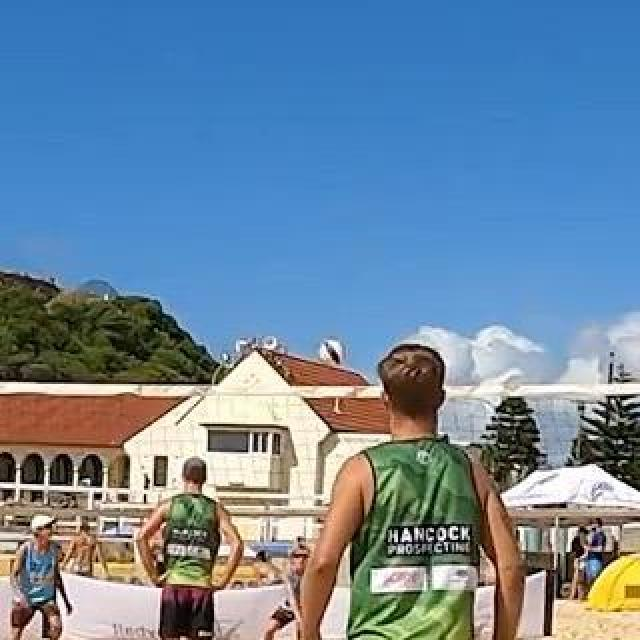volleyball: (317, 339, 345, 367)
